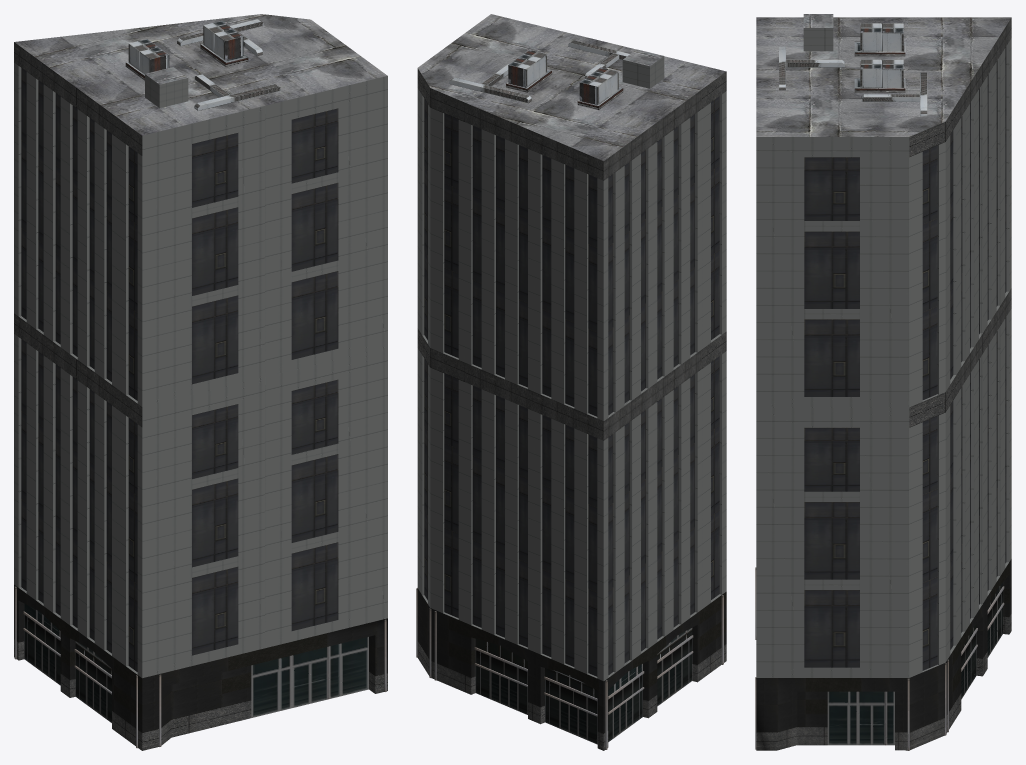
The model's file is tutorial_building7.gltf.
3 views of the same model, side by side, from view 1: azimuth 30°, elevation 25°; view 2: azimuth 150°, elevation 25°; view 3: azimuth 270°, elevation 25° (orthographic). The views are drawn at different scales.
Visible parts, largest first — view 1: building7; view 2: building7; view 3: building7.
Part boxes in pixels (x1=…): building7: x1=14, y1=14, x2=387, y2=750; building7: x1=416, y1=14, x2=726, y2=750; building7: x1=755, y1=14, x2=1011, y2=750.
Bounding box in the file's own units: 18.88 × 46.48 × 16.96.
3 materials, 3 textured.
